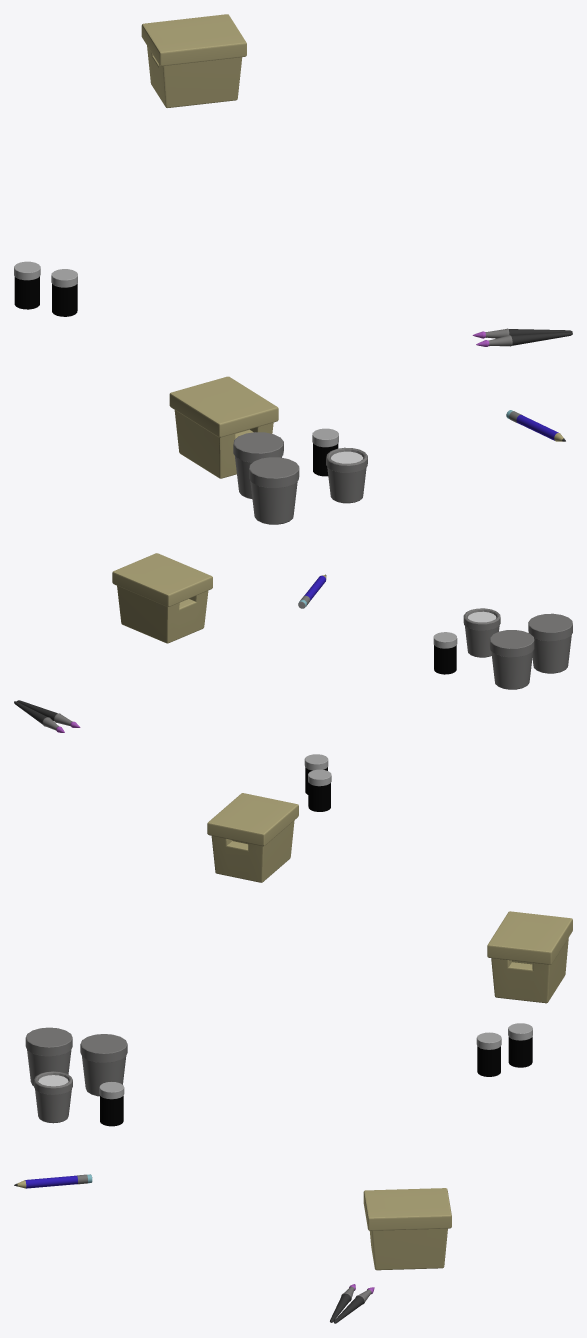
Rendered from random objects textures.fbx.
The picture shows the model from 3 angles, top to bottom: view 1: azimuth 30°, elevation 25°; view 2: azimuth 150°, elevation 25°; view 3: azimuth 270°, elevation 25°; orthographic projection. The views are drawn at different scales.
Parts seen in each view (by area): view 1: box_on_shelf, box_on_shelf1, paint_bucket_closed2, paint_bucket, paint_bucket_closed1, wall_shelf_canister13, wall_shelf_canister12, wall_shelf_canister14, small_stool_paint_brush; view 2: box_on_shelf, box_on_shelf1, paint_bucket_closed1, paint_bucket_closed2, paint_bucket, wall_shelf_canister14, wall_shelf_canister13, wall_shelf_canister12, small_stool_paint_brush; view 3: box_on_shelf1, box_on_shelf, paint_bucket_closed1, paint_bucket_closed2, paint_bucket, wall_shelf_canister13, wall_shelf_canister12, wall_shelf_canister14, pencil.
Part boxes in pixels (bbox=[...]): box_on_shelf: bbox=[141, 14, 246, 107]; box_on_shelf1: bbox=[169, 376, 278, 478]; paint_bucket_closed2: bbox=[249, 457, 299, 524]; paint_bucket: bbox=[326, 447, 367, 503]; paint_bucket_closed1: bbox=[233, 432, 283, 498]; wall_shelf_canister13: bbox=[14, 261, 40, 309]; wall_shelf_canister12: bbox=[51, 269, 77, 316]; wall_shelf_canister14: bbox=[312, 428, 338, 476]; small_stool_paint_brush: bbox=[476, 332, 572, 346]; box_on_shelf: bbox=[112, 553, 212, 643]; box_on_shelf1: bbox=[207, 793, 298, 882]; paint_bucket_closed1: bbox=[489, 630, 534, 689]; paint_bucket_closed2: bbox=[528, 613, 572, 673]; paint_bucket: bbox=[463, 608, 500, 657]; wall_shelf_canister14: bbox=[433, 632, 457, 674]; wall_shelf_canister13: bbox=[308, 769, 331, 811]; wall_shelf_canister12: bbox=[304, 754, 328, 794]; small_stool_paint_brush: bbox=[17, 700, 80, 727]; box_on_shelf1: bbox=[363, 1188, 451, 1270]; box_on_shelf: bbox=[487, 911, 572, 1003]; paint_bucket_closed1: bbox=[80, 1034, 127, 1096]; paint_bucket_closed2: bbox=[25, 1027, 72, 1086]; paint_bucket: bbox=[34, 1071, 72, 1123]; wall_shelf_canister13: bbox=[508, 1023, 532, 1067]; wall_shelf_canister12: bbox=[476, 1032, 501, 1076]; wall_shelf_canister14: bbox=[99, 1082, 124, 1126]; pencil: bbox=[14, 1174, 92, 1188].
Bounding box in the file's own units: 11.3 × 8.42 × 12.42.
